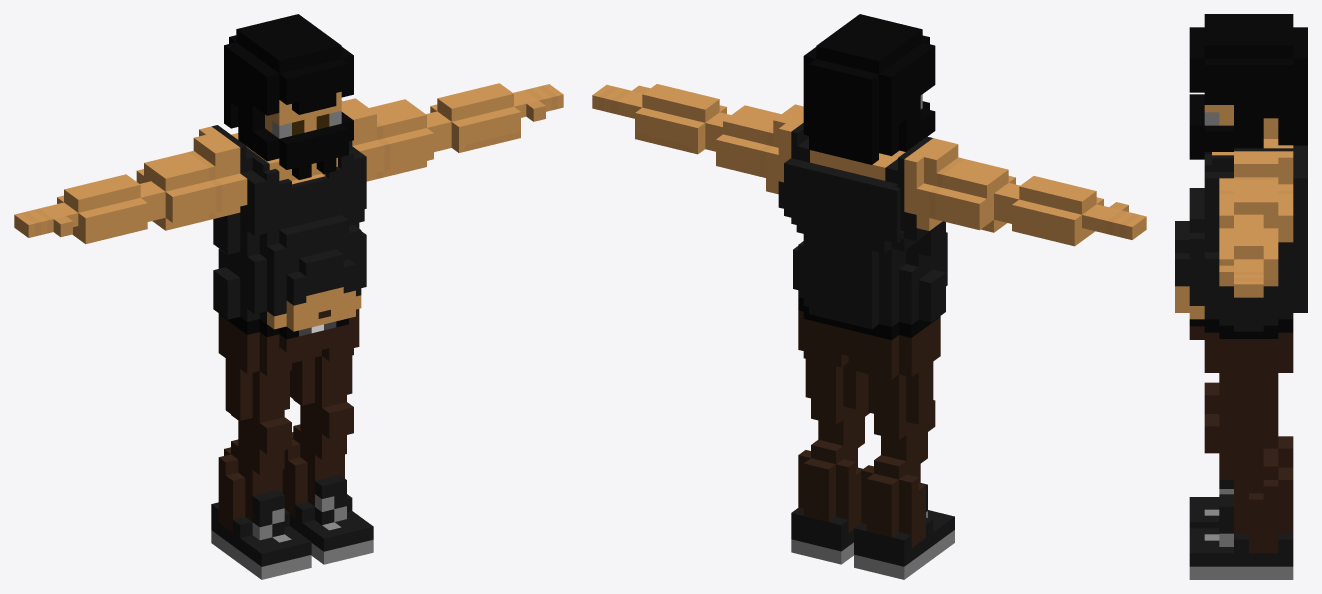
Rendered from Character-2.obj.
3 renders of one model, left to right at view 1: azimuth 30°, elevation 25°; view 2: azimuth 150°, elevation 25°; view 3: azimuth 270°, elevation 25°, orthographic. The views are drawn at different scales.
Parts seen in each view (by area): view 1: Character-2; view 2: Character-2; view 3: Character-2.
Boxes of the visible parts, left/top/right/bottom form: Character-2: left=14, top=14, right=563, bottom=579; Character-2: left=592, top=14, right=1146, bottom=579; Character-2: left=1175, top=14, right=1307, bottom=579.
Bounding box in the file's own units: 8.6 × 7.8 × 1.8.
1 material, 1 textured.
